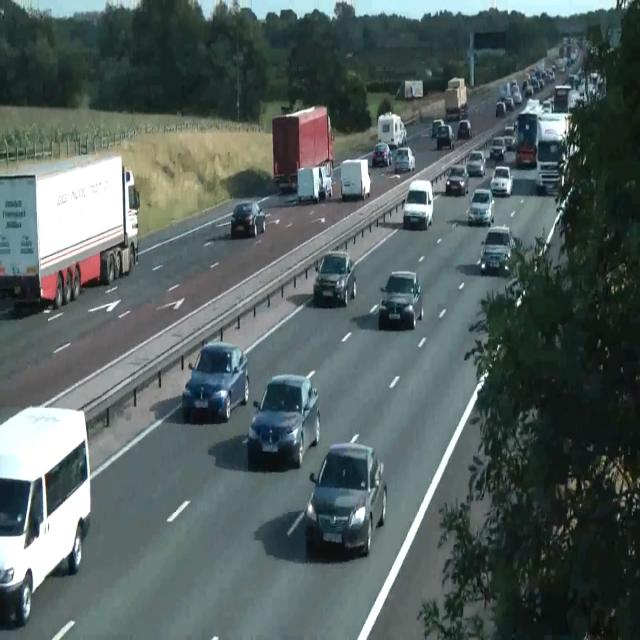bus: (248, 374, 320, 468), (181, 340, 249, 422), (378, 269, 422, 330), (313, 250, 356, 306), (555, 177, 596, 214), (230, 201, 266, 238), (466, 188, 494, 226), (445, 164, 469, 196), (504, 275, 526, 309), (490, 166, 513, 197), (393, 147, 415, 173), (466, 150, 486, 177), (516, 141, 536, 168), (372, 142, 392, 167), (457, 119, 471, 141), (510, 83, 522, 105), (432, 118, 444, 138), (496, 100, 506, 118)
jeep: (0, 404, 91, 626), (305, 436, 387, 556), (535, 132, 565, 194), (480, 224, 514, 275), (402, 179, 433, 229), (436, 124, 454, 150), (488, 134, 506, 160)
minibus: (0, 152, 140, 309), (272, 104, 334, 192), (340, 158, 371, 201), (296, 166, 332, 203), (377, 111, 407, 149), (444, 76, 468, 120), (395, 79, 423, 100), (553, 83, 571, 113)
